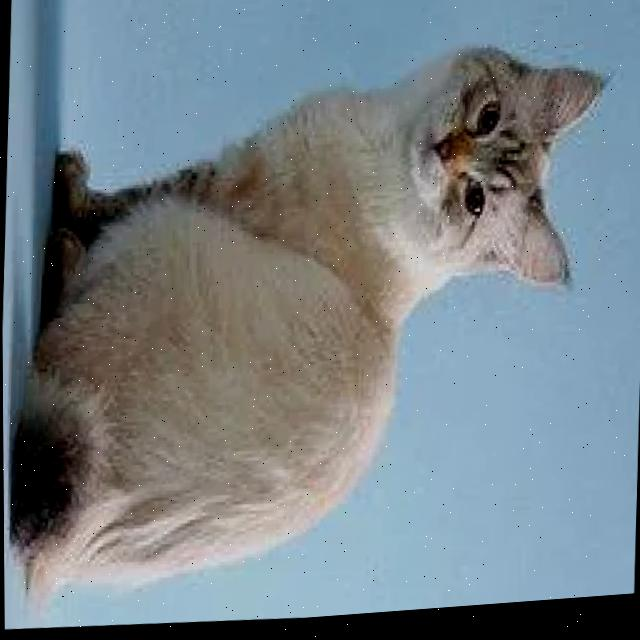American Bobtail: (0, 23, 613, 628)
